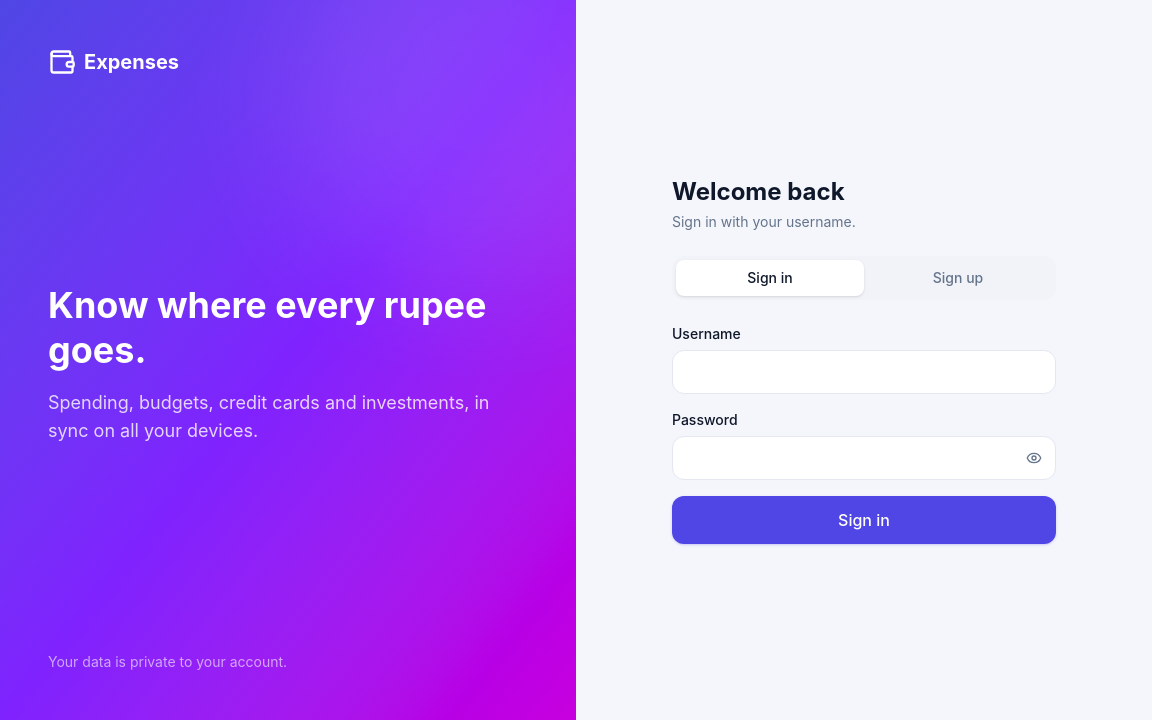
Test: Login screen › ticks off password rules as they are met
Click the radio button labelled "Sign up" at (958, 278), box [864,260,1052,296]
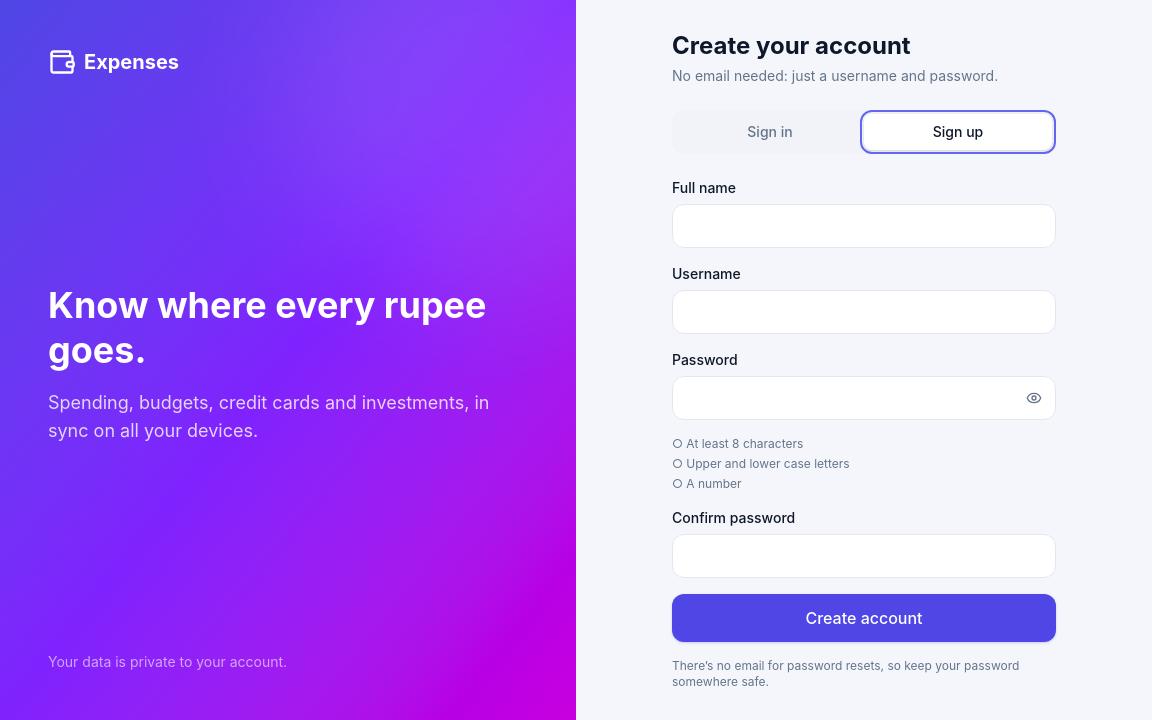
expect the list item "○ At least 8 characters" is shown: met, box [672,436,803,451]
Type "Abcdefg1" into the password field labelled "Password" at (864, 398), box [672,376,1056,420]
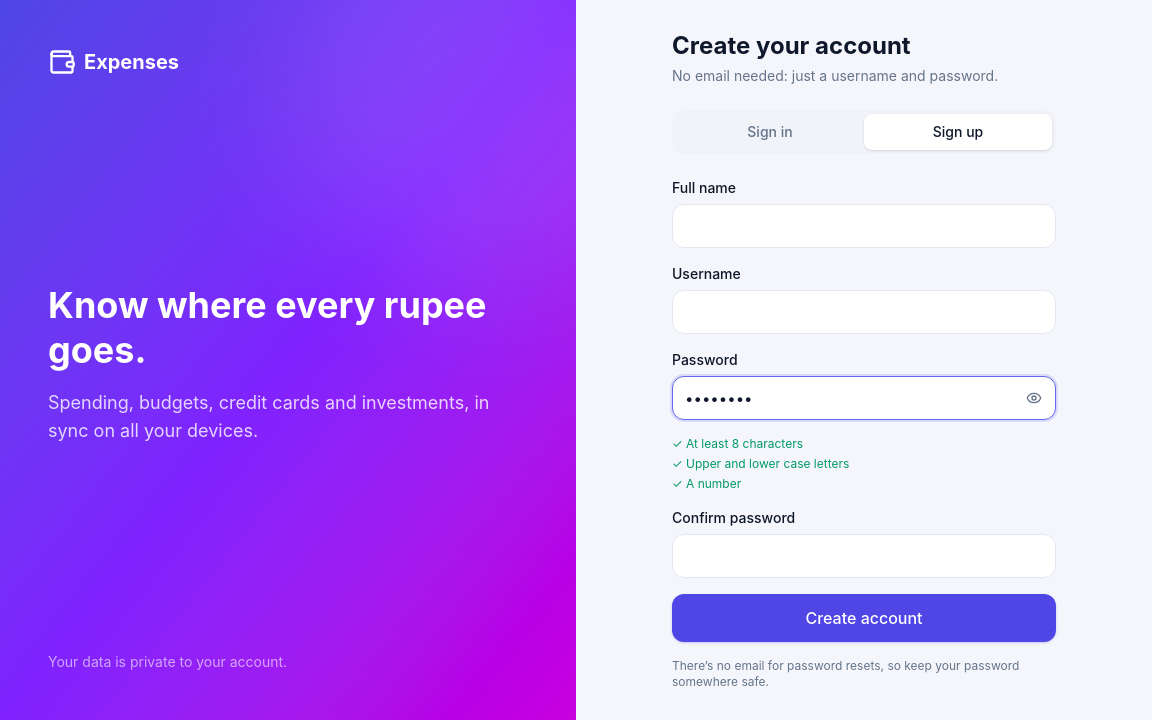
expect the list item "✓ At least 8 characters" is shown: met, box [672,436,803,451]
expect the list item "✓ A number" is shown: met, box [672,476,741,491]
